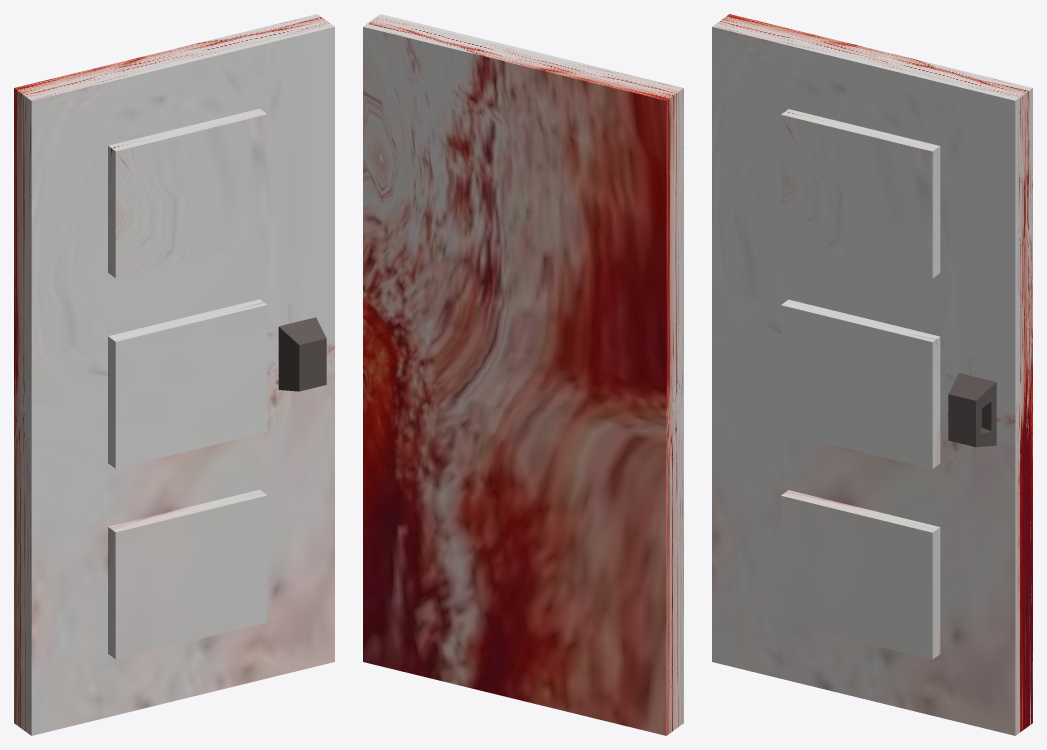
File: Puerta_21.fbx
3 renders of one model, left to right at view 1: azimuth 30°, elevation 25°; view 2: azimuth 150°, elevation 25°; view 3: azimuth 330°, elevation 25°, orthographic.
Parts seen in each view (by area): view 1: Cube.021; view 2: Cube.021; view 3: Cube.021.
Part boxes in pixels (box(x1,y1,x2,y2)): Cube.021: box(14, 14, 334, 735); Cube.021: box(363, 14, 683, 735); Cube.021: box(712, 14, 1032, 735).
Size of the model in its own units: 200 by 400 by 37.88.
